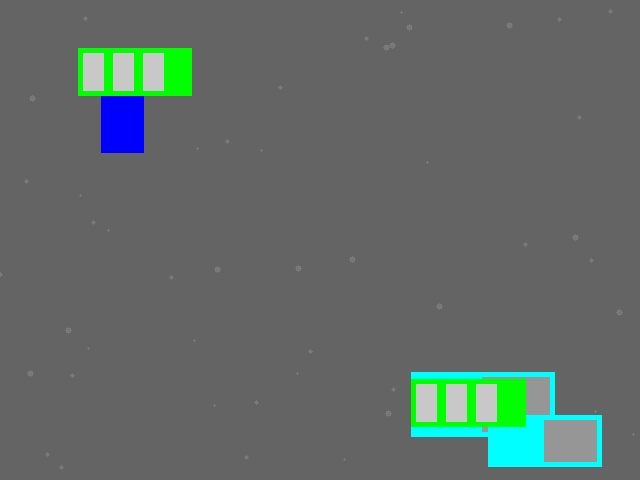bus: (411, 379, 525, 426), (78, 48, 191, 95)
motorcycle: (101, 68, 143, 152)
truck: (411, 372, 554, 436), (488, 415, 601, 466)
